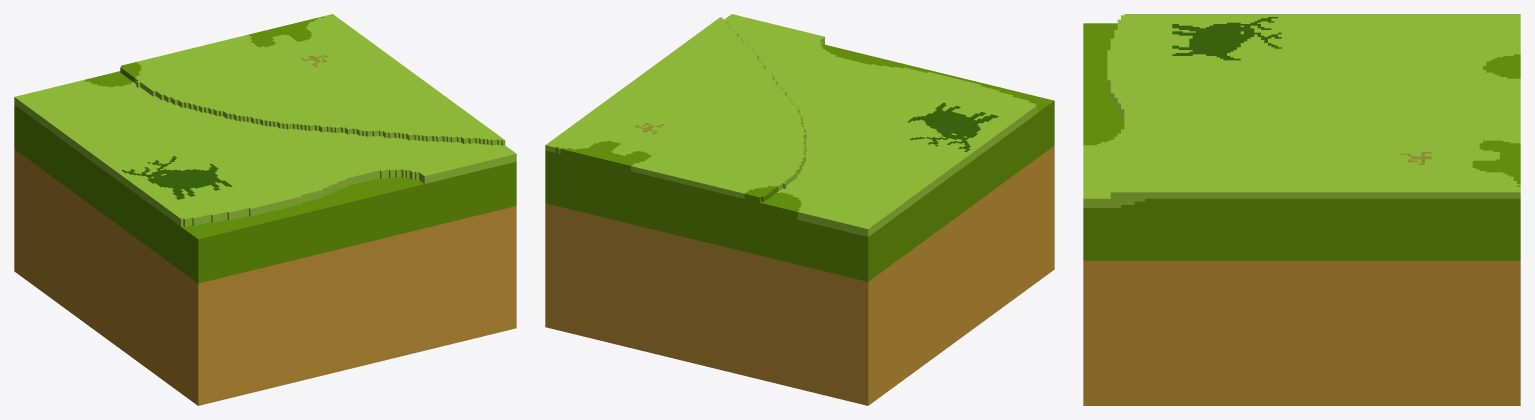
3 views of the same model, side by side, from view 1: azimuth 30°, elevation 25°; view 2: azimuth 150°, elevation 25°; view 3: azimuth 270°, elevation 25° (orthographic). The views are drawn at different scales.
Visible parts, largest first — view 1: 14I; view 2: 14I; view 3: 14I.
Boxes of the visible parts, x1,y1,x2,y2 form: 14I: [14, 14, 516, 405]; 14I: [545, 14, 1054, 405]; 14I: [1083, 14, 1520, 405].
Size of the model in its own units: 12.8 by 6.9 by 12.8.
Materials: 1 (1 with a texture image).
